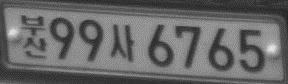5: (238, 29, 265, 72)
6: (207, 27, 235, 71), (147, 23, 173, 66)
7: (175, 25, 201, 67)
9: (77, 18, 105, 61), (49, 16, 75, 59)
부산_V: (20, 14, 47, 59)
사: (109, 23, 135, 62)
